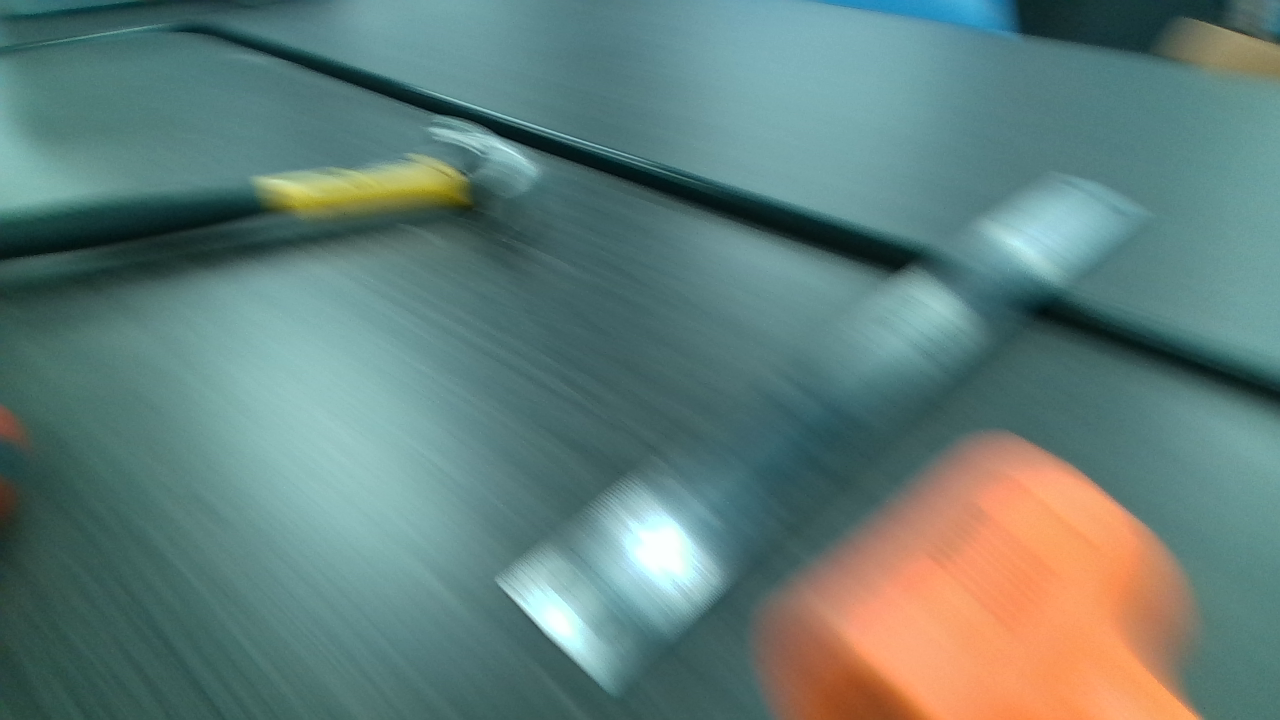Orange Hammer: (755, 436, 1200, 720)
